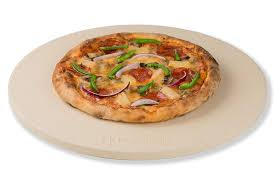pizza: (55, 37, 222, 118)
